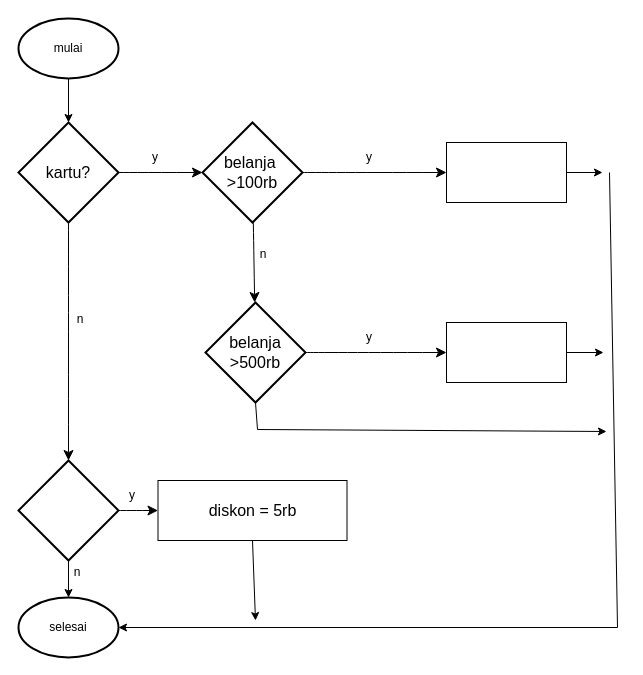
Some shapes in this 643 by 675 pixel diagram are drawn without their labels. Each missing label, with the box of its shape:
beanja >100rb: (17, 459, 119, 561)
diskon = 15 rb: (446, 142, 566, 202)
diskon = 50rb: (446, 322, 566, 382)
